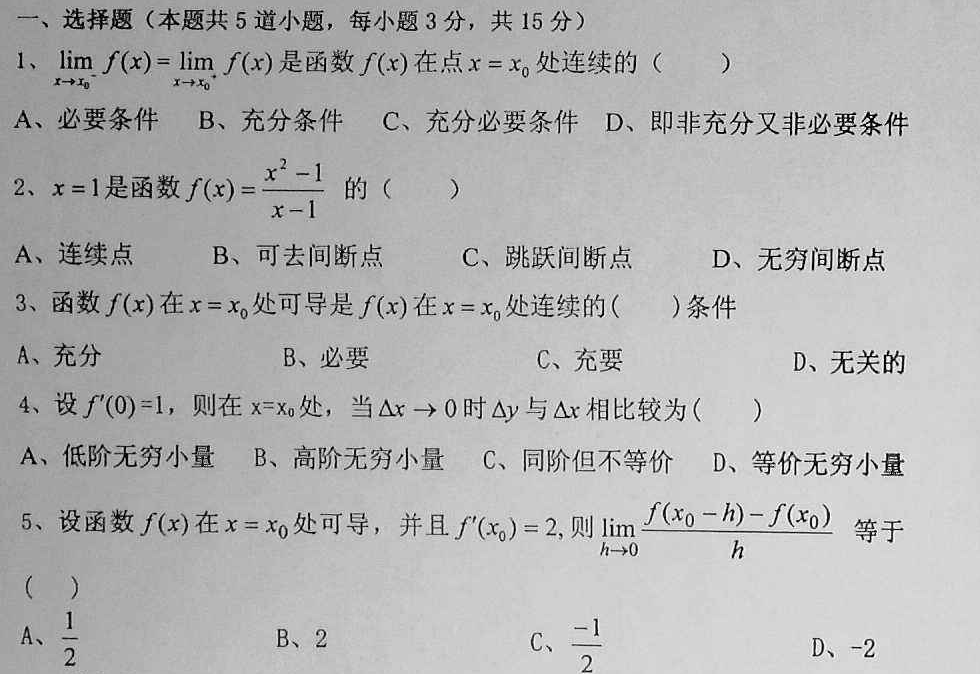text: (19, 496, 911, 566), (21, 614, 878, 674), (17, 439, 906, 484), (14, 104, 918, 148), (12, 340, 911, 384), (14, 237, 887, 280), (7, 43, 737, 93), (15, 390, 763, 432), (12, 286, 741, 328), (11, 157, 459, 223), (10, 4, 590, 34), (24, 573, 79, 603)
